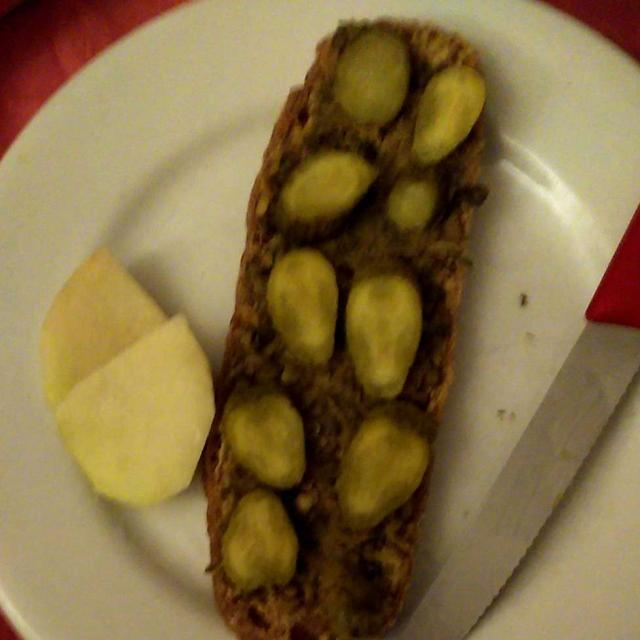bread: (200, 13, 494, 637)
cucumber-pickled: (206, 29, 497, 626)
kolhrabi: (49, 253, 225, 552)
